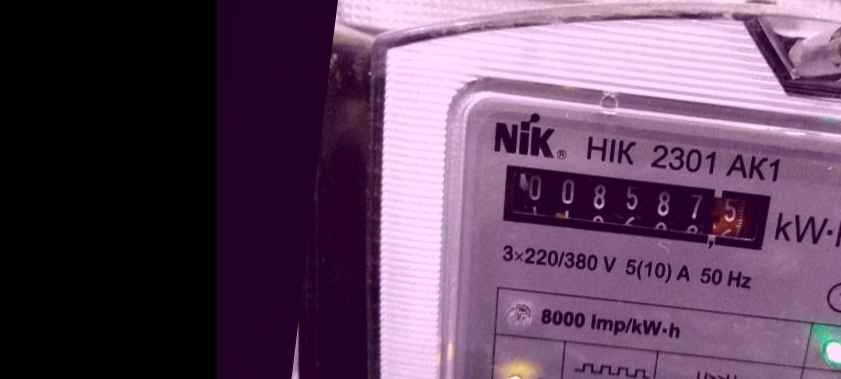0: (523, 171, 544, 202), (557, 176, 577, 206)
5: (620, 183, 641, 213), (720, 195, 740, 226)
7: (684, 190, 704, 222)
8: (652, 187, 673, 219), (588, 181, 608, 211)
screen: (479, 146, 789, 266)
